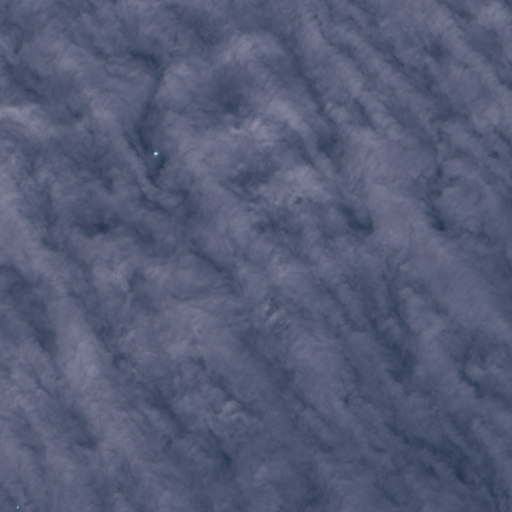Iceberg: (154, 151, 158, 155), (17, 506, 18, 508)
